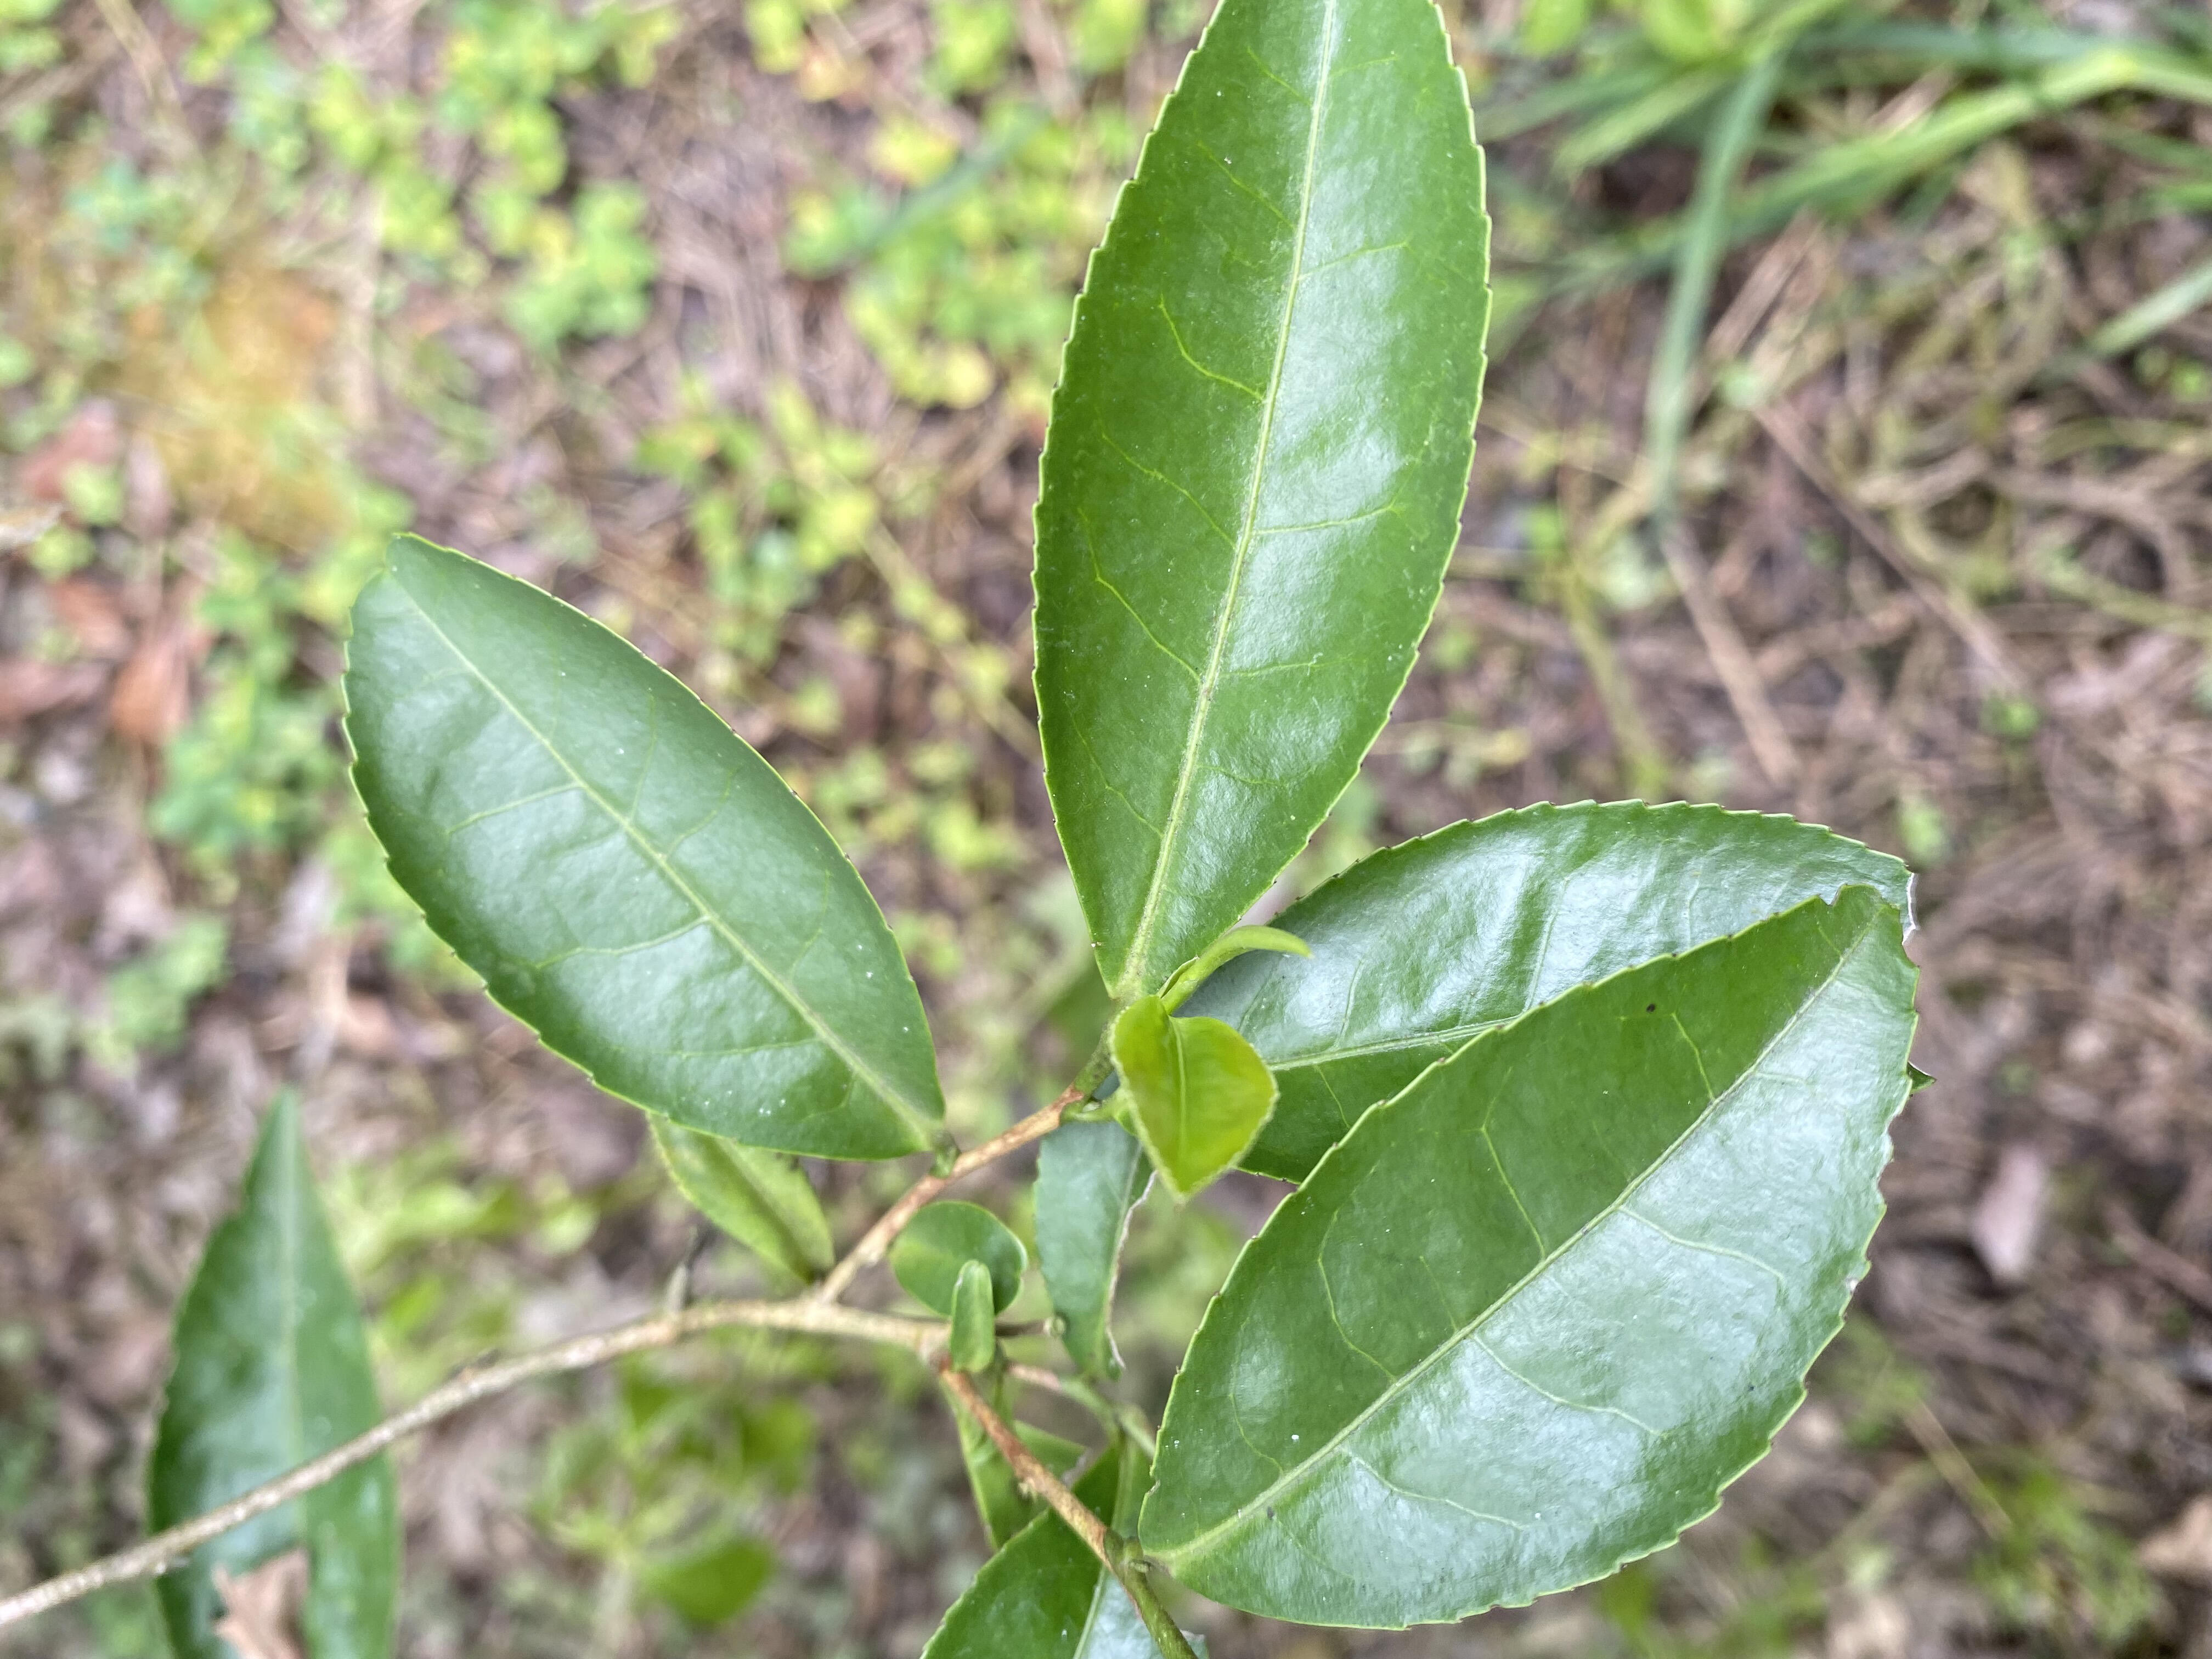healthy: (1137, 884, 1918, 1635), (1031, 2, 1494, 990), (338, 532, 948, 1166), (1106, 993, 1275, 1209)
